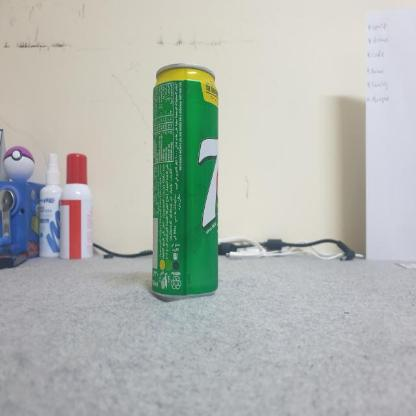Can: (146, 48, 226, 320)
